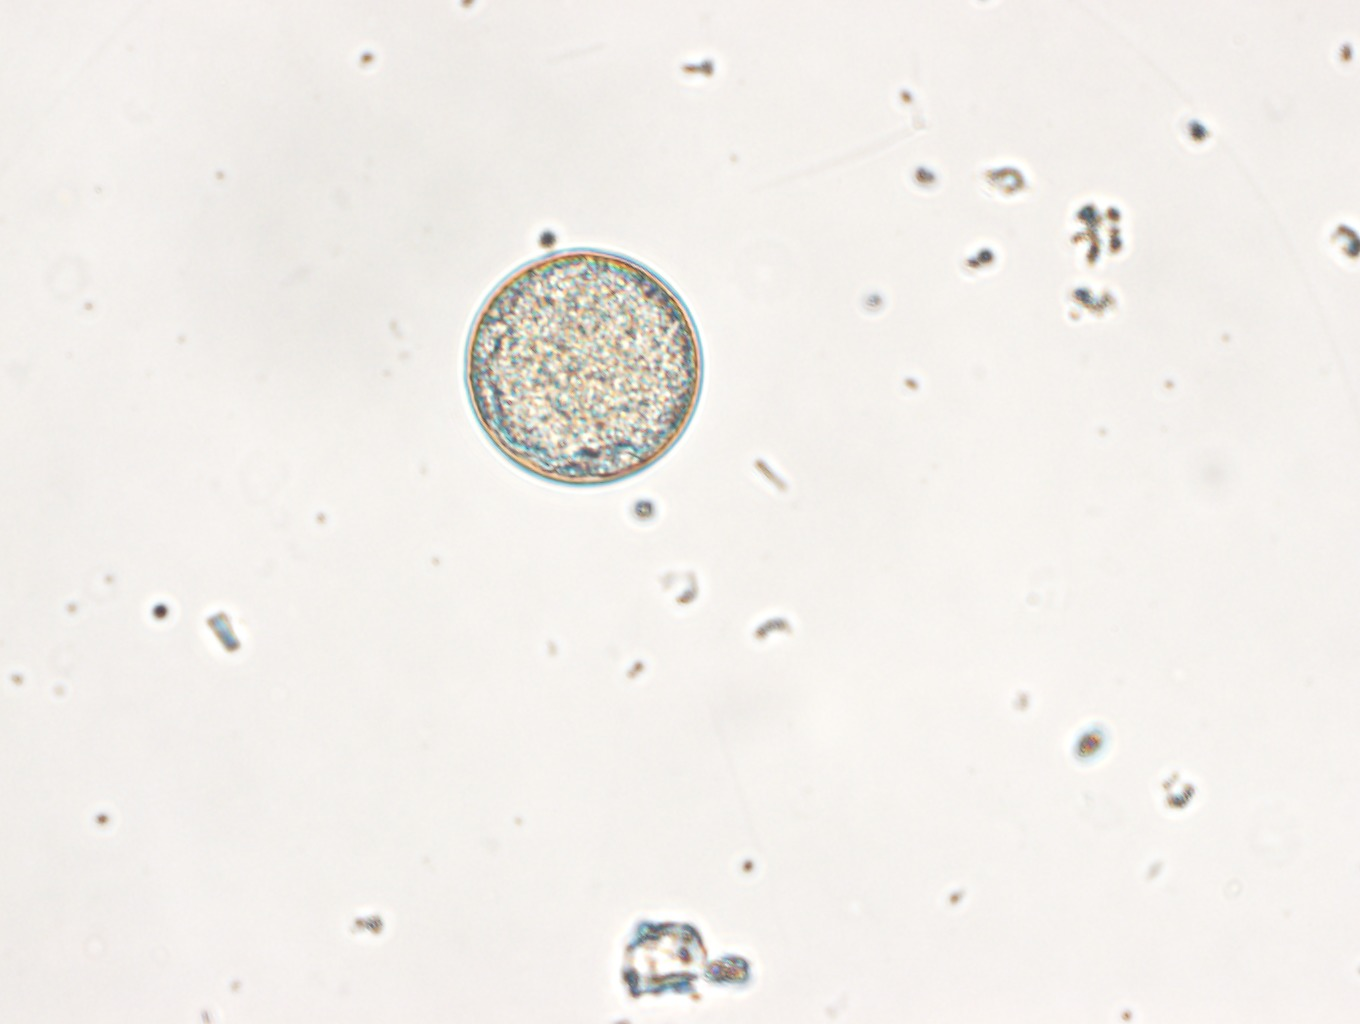coscinodiscus: (466, 242, 710, 486)
